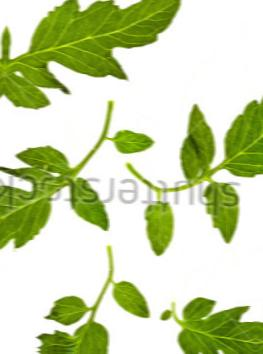Tomato leaf: (1, 0, 186, 156), (133, 63, 263, 266), (0, 204, 147, 354), (0, 108, 115, 282), (152, 285, 258, 354)
